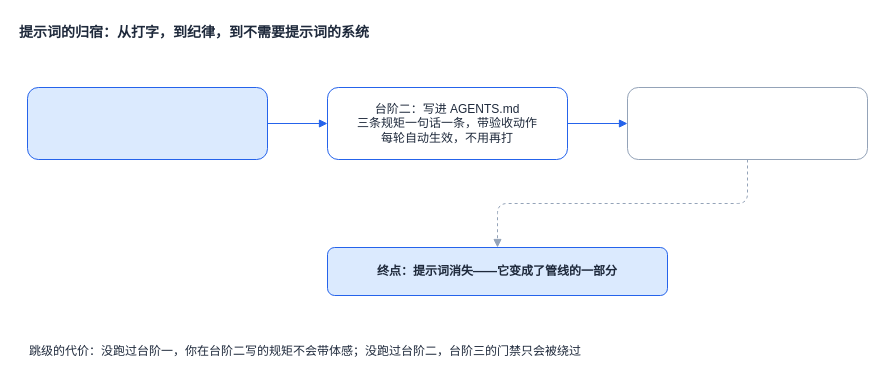
This 885x375 diagram has some shape labels left out. The box of each missing label's shape, as (x1, y1, x2, y2) in pixels:
台阶一：手打一周 直接抄三条模板，做新旧对照 亲眼看翻车率差多少: (26, 86, 268, 160)
台阶三：固化成管线 计划→流程命令 / 复述→文件清单 绿灯→CI 门禁: (626, 86, 868, 160)
